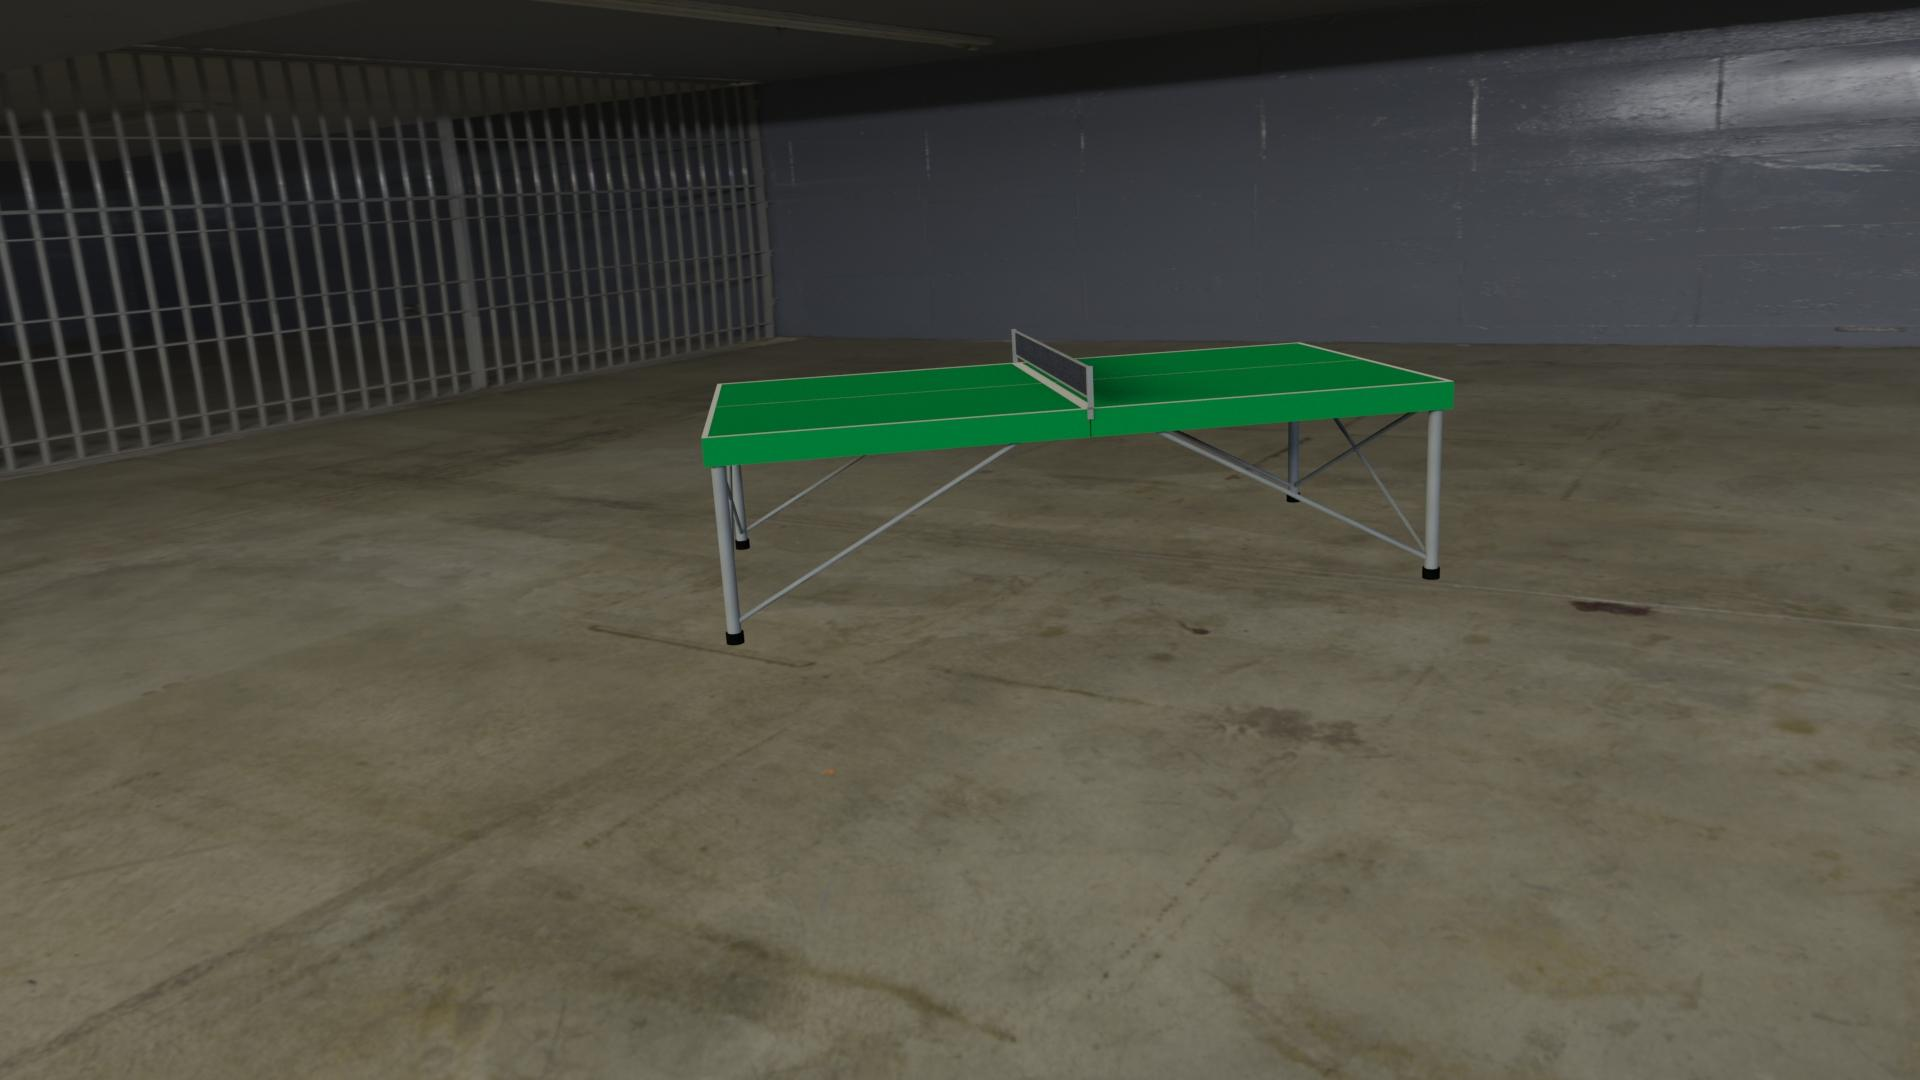table: (707, 343, 1447, 436)
